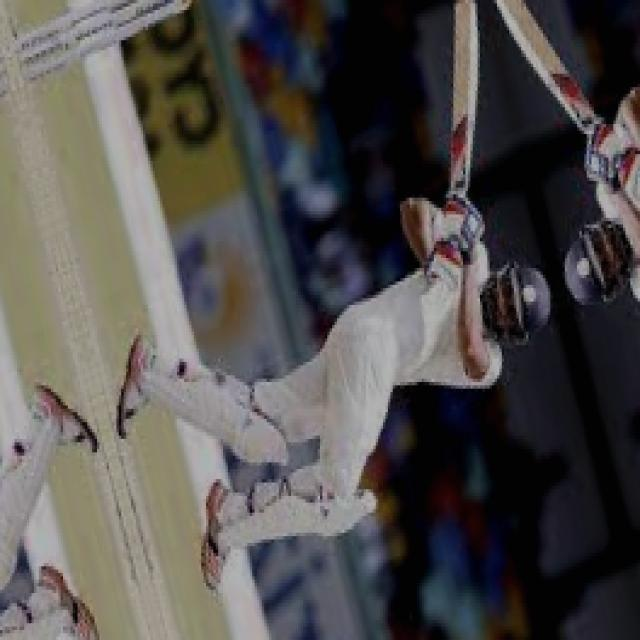toe: (454, 0, 476, 19)
